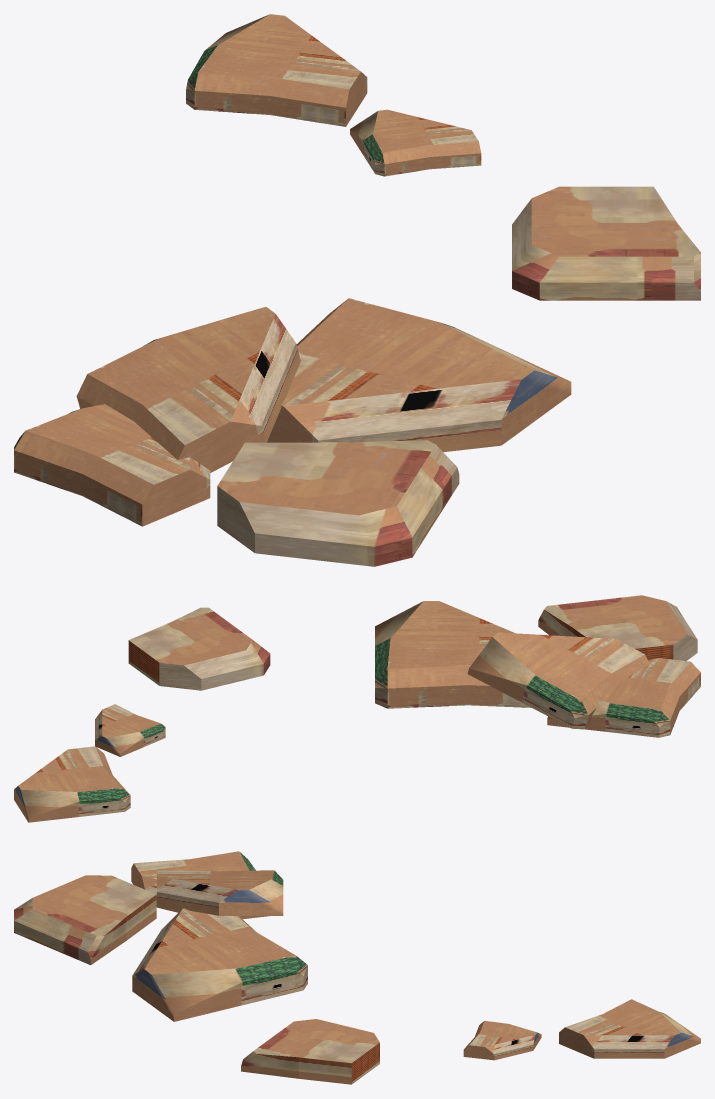
File: SM_RocksPile.fbx
3 views of the same model, one above another, from view 1: azimuth 30°, elevation 25°; view 2: azimuth 150°, elevation 25°; view 3: azimuth 270°, elevation 25° (orthographic). The views are drawn at different scales.
Parts seen in each view (by area): view 1: ruines2_pCube1355; view 2: ruines2_pCube1355; view 3: ruines2_pCube1355.
Boxes of the visible parts, x1,y1,x2,y2 form: ruines2_pCube1355: (14,14,700,566); ruines2_pCube1355: (14,595,700,822); ruines2_pCube1355: (14,851,700,1084).
Bounding box in the file's own units: 3.95 × 0.5202 × 5.31.
